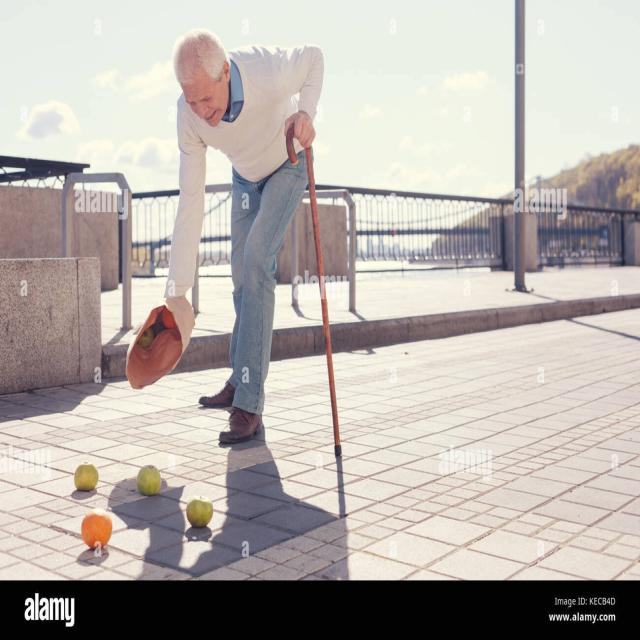idoso em pe: (153, 37, 335, 455)
